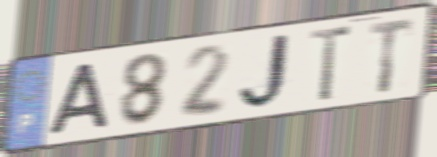2: (179, 43, 232, 120)
8: (119, 51, 168, 128)
A: (45, 60, 112, 138)
J: (236, 30, 297, 114)
T: (367, 15, 417, 96), (306, 23, 355, 105)
